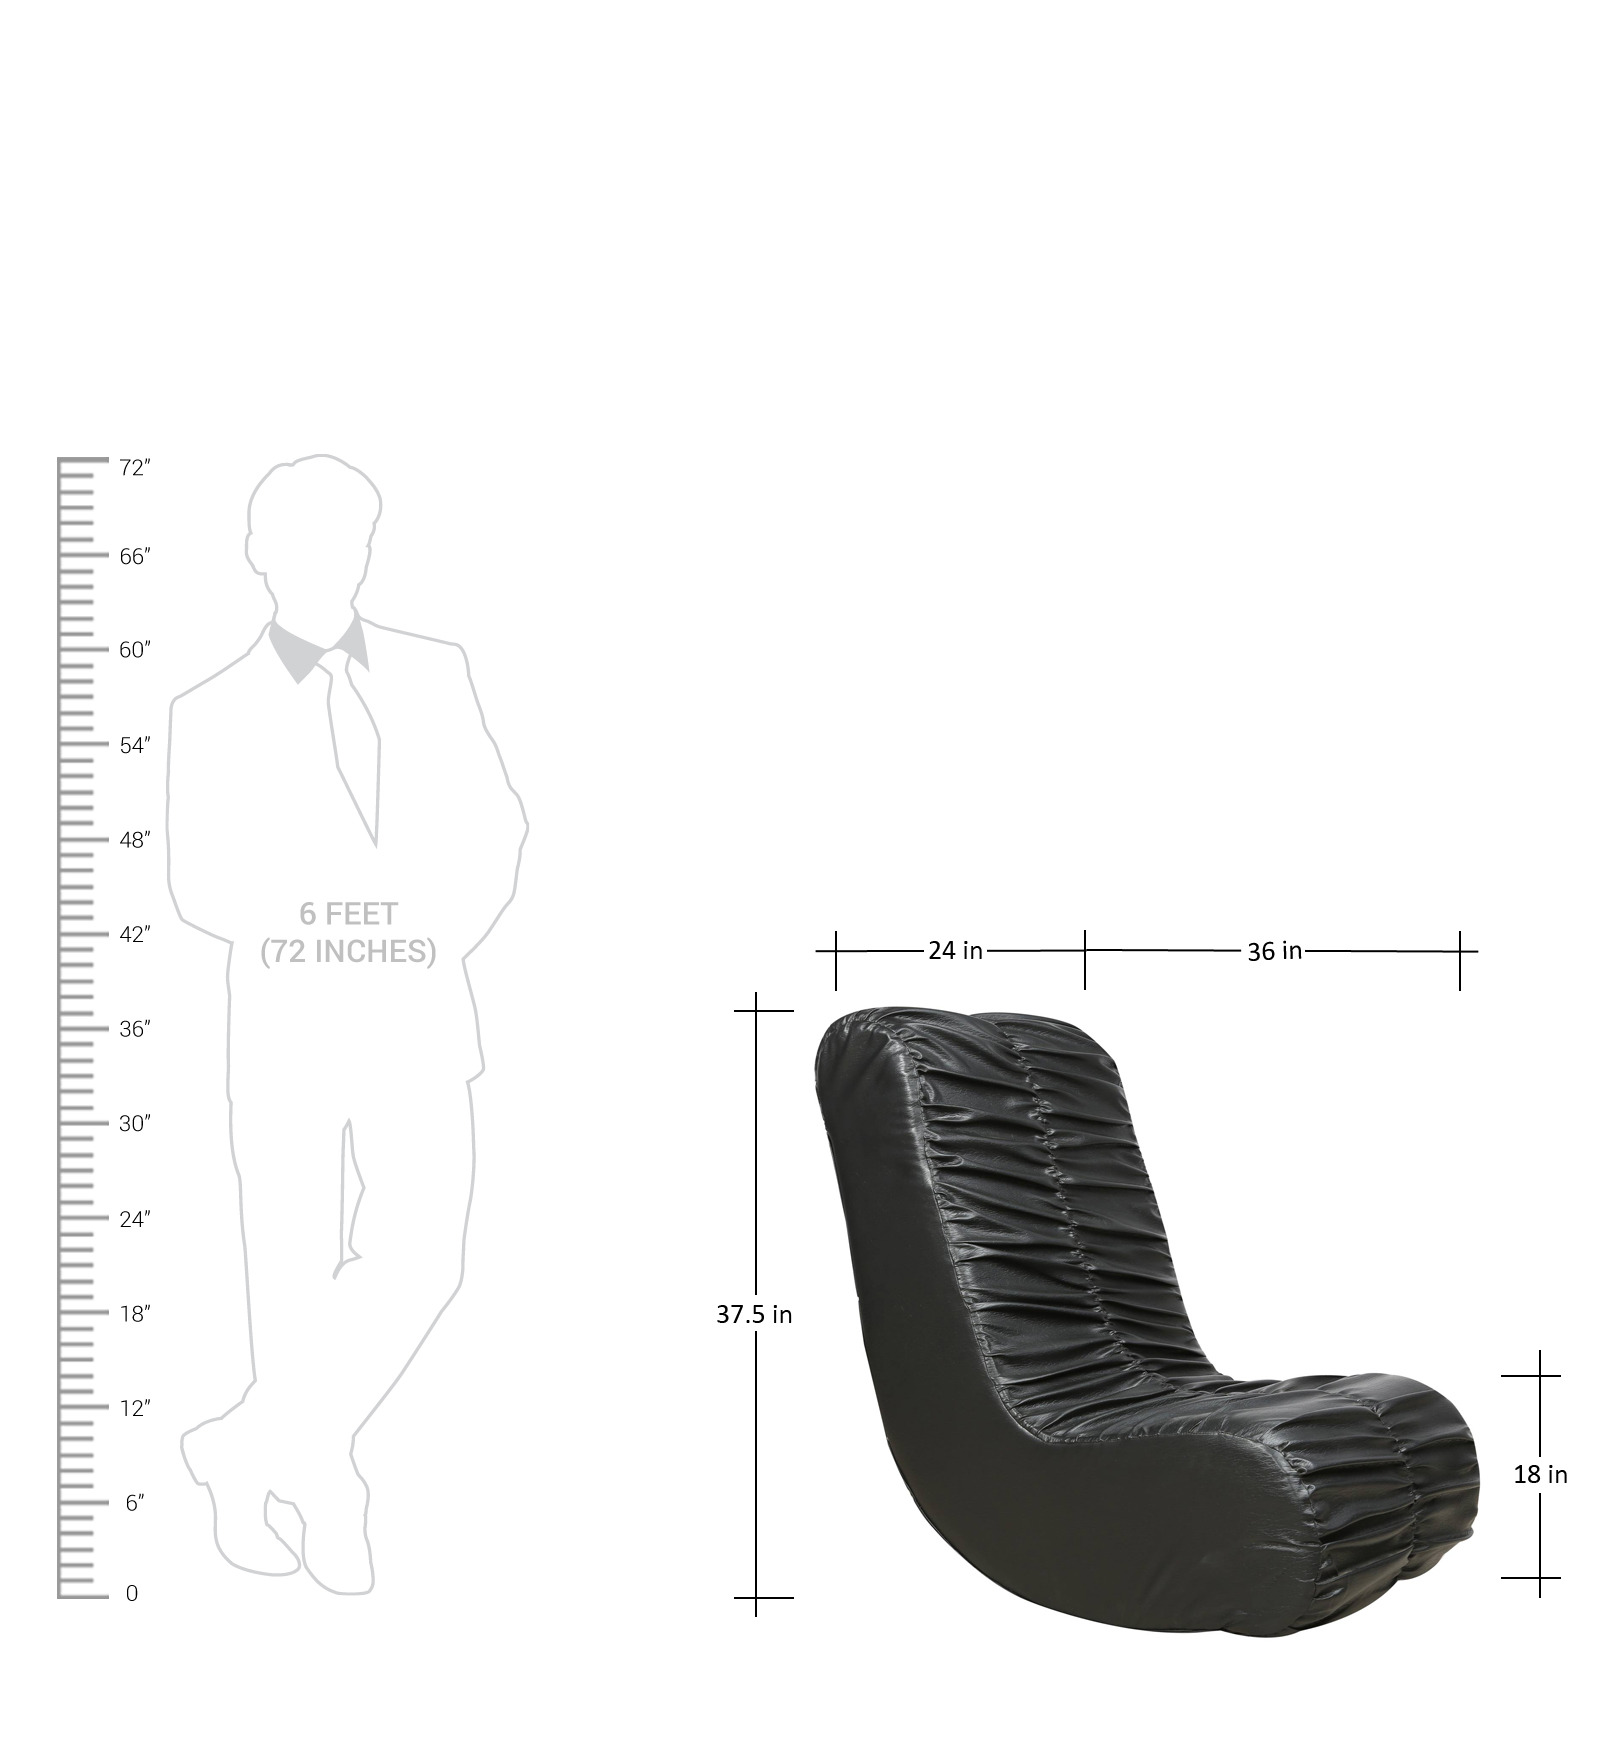Daisy Rocking Chair in Black Colour by Parin: (803, 974, 1507, 1696)
